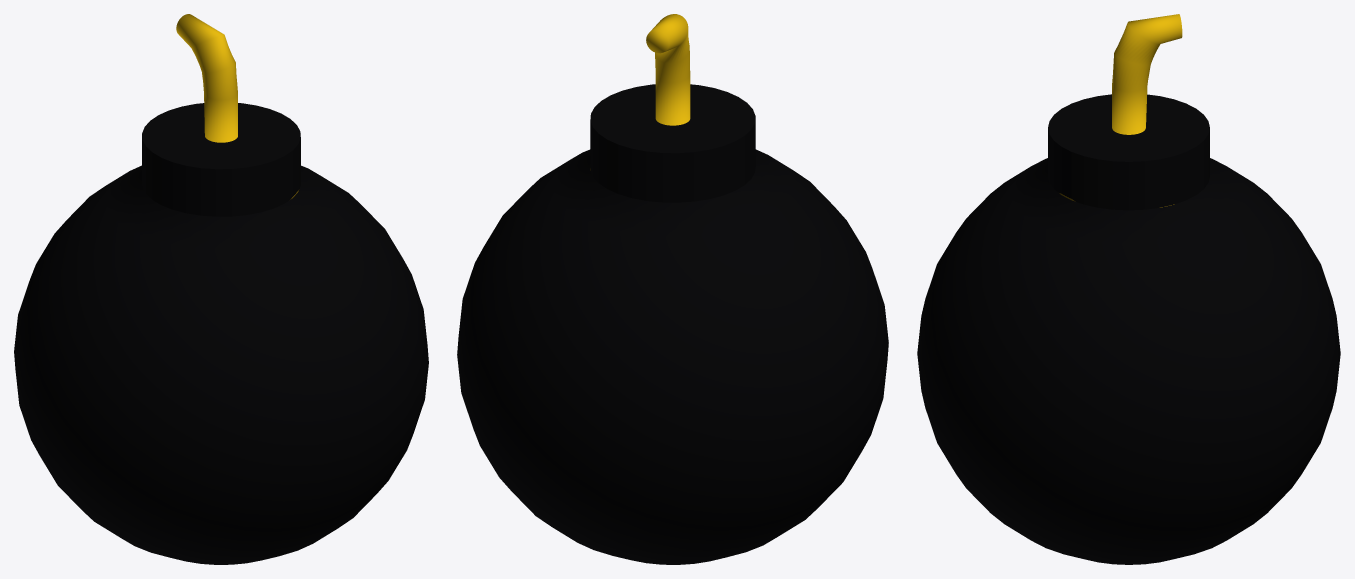
The model's file is bomb.fbx.
3 renders of one model, left to right at view 1: azimuth 30°, elevation 25°; view 2: azimuth 150°, elevation 25°; view 3: azimuth 270°, elevation 25°, orthographic. The views are drawn at different scales.
Parts seen in each view (by area): view 1: bomb; view 2: bomb; view 3: bomb.
Part boxes in pixels (x1,y1,x2,y2): bomb: [14, 14, 428, 564]; bomb: [457, 14, 888, 564]; bomb: [917, 14, 1340, 564].
Size of the model in its own units: 1 by 1.37 by 1.
